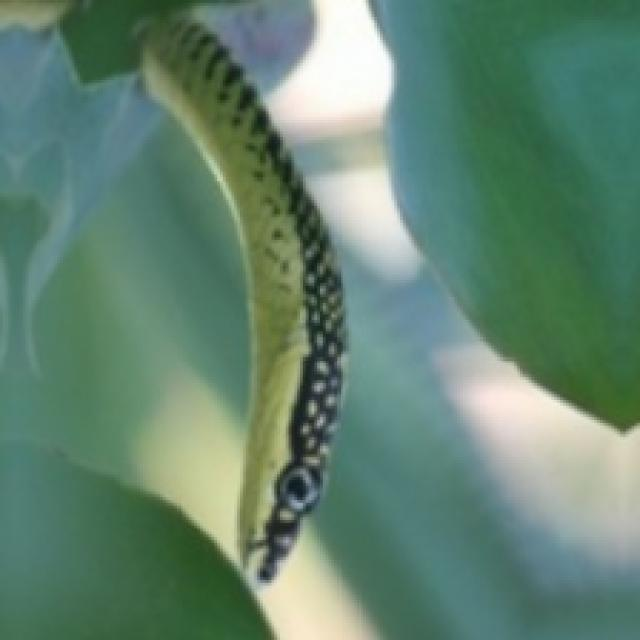paradise tree snake: (0, 0, 343, 580), (140, 14, 343, 580)
